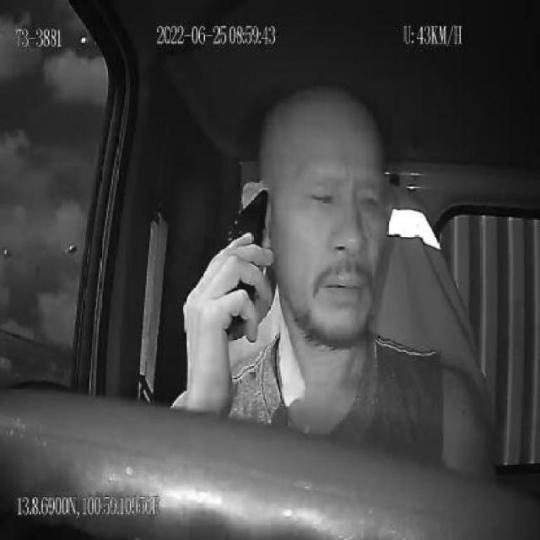phone: (224, 183, 270, 338)
